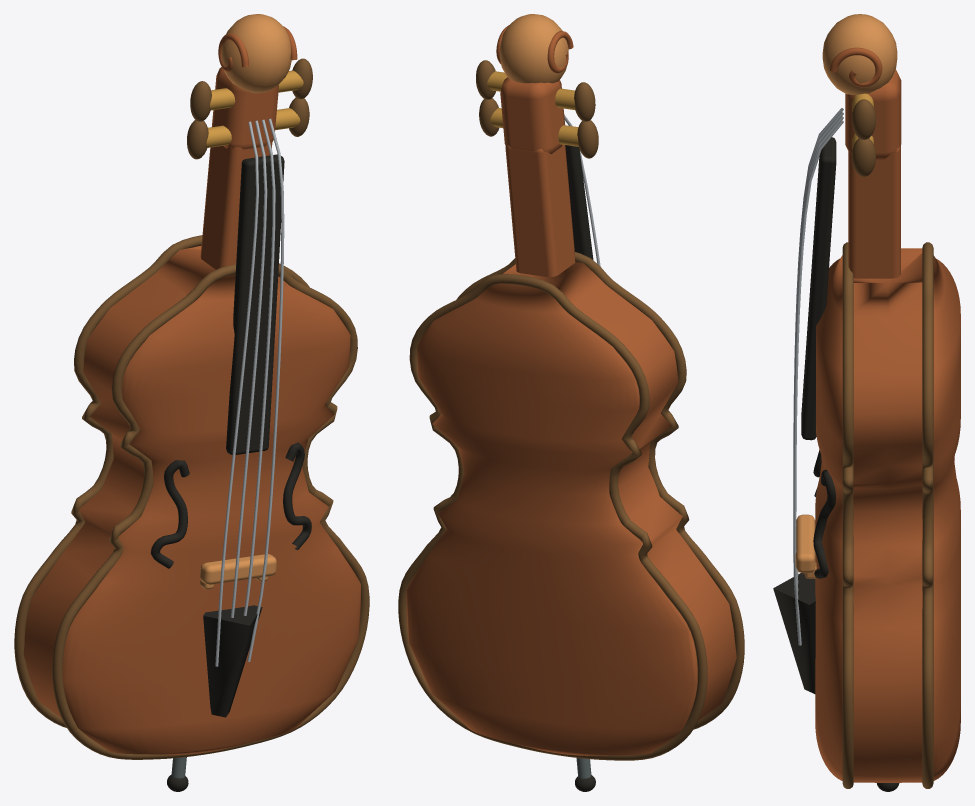
The model's file is bass.glb.
The picture shows the model from 3 angles, left to right: view 1: azimuth 30°, elevation 25°; view 2: azimuth 150°, elevation 25°; view 3: azimuth 270°, elevation 25°; orthographic projection. The views are drawn at different scales.
Visible parts, largest first — view 1: Upright bass; view 2: Upright bass; view 3: Upright bass.
Part boxes in pixels (bbox=[...]): Upright bass: bbox=[14, 14, 369, 791]; Upright bass: bbox=[398, 14, 744, 791]; Upright bass: bbox=[773, 14, 960, 791].
Bounding box in the file's own units: 1.16 × 2.7 × 0.5698.
